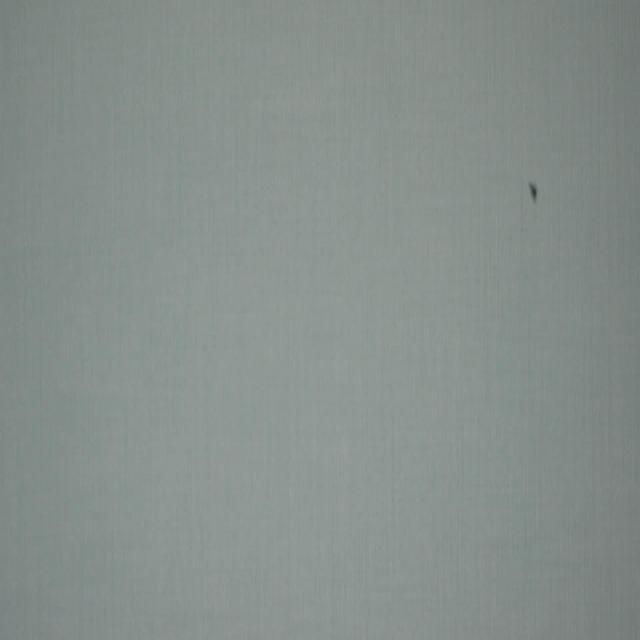dirty: (528, 182, 540, 204)
